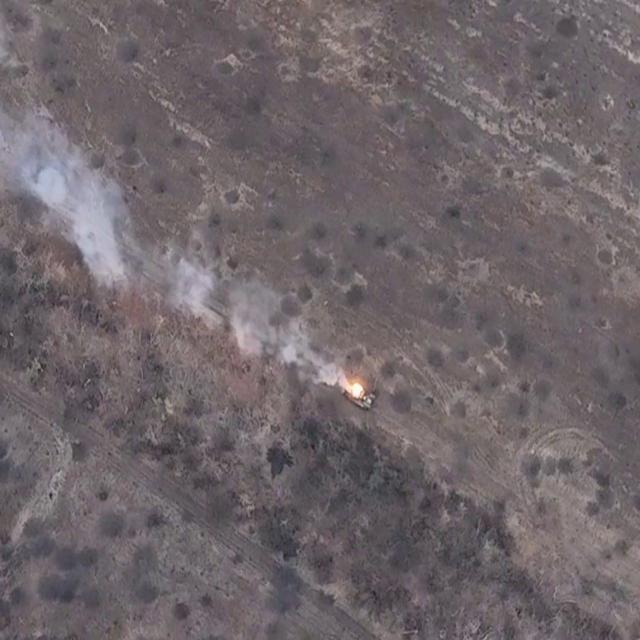Destroyed: (345, 383, 376, 412)
